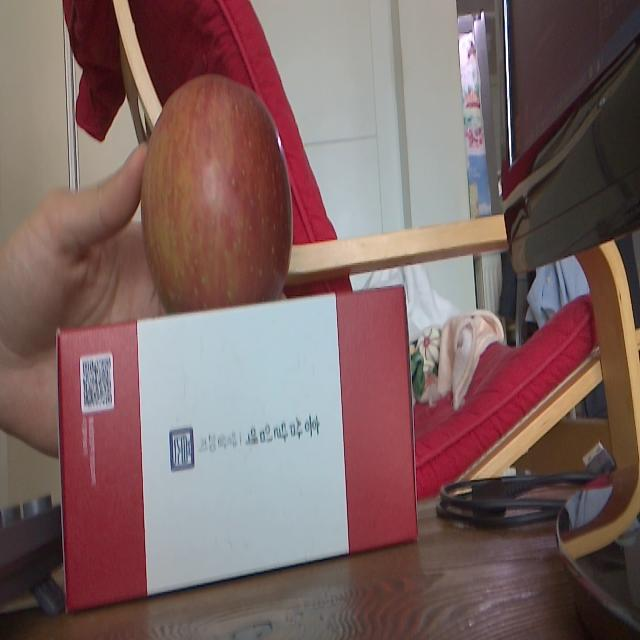apple: (139, 68, 294, 309)
